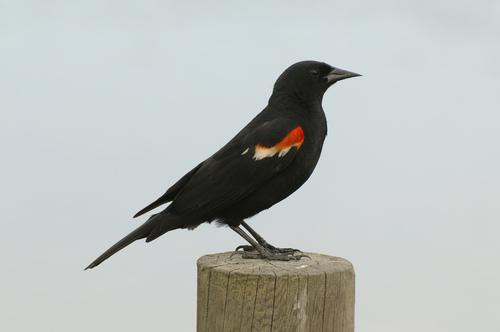010.Red_winged_Blackbird: (85, 58, 365, 286)
